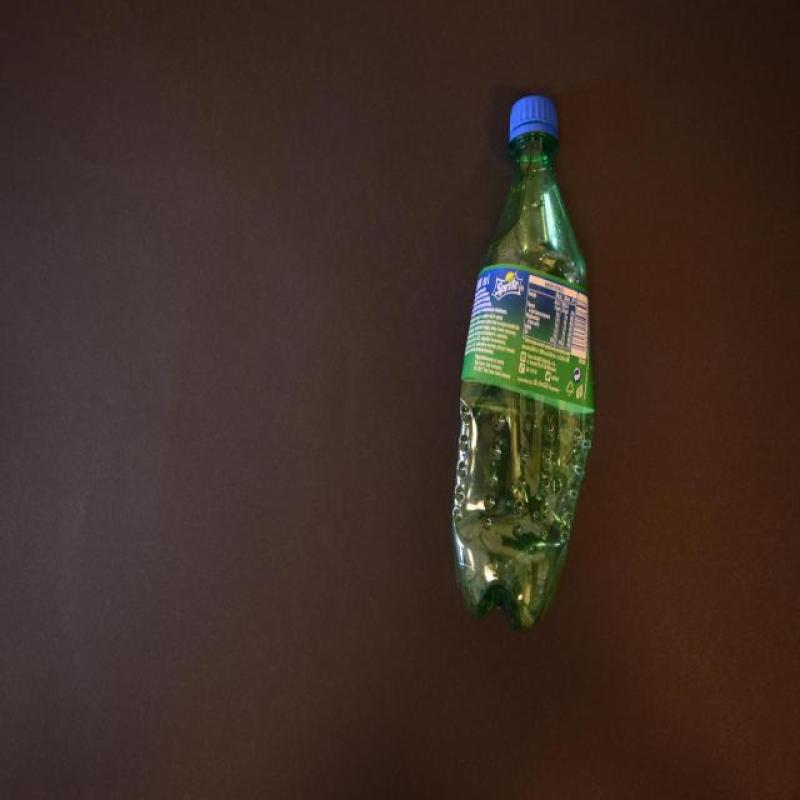botella: (452, 97, 598, 632)
